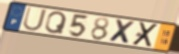5: (67, 13, 91, 38)
8: (89, 17, 113, 42)
Q: (44, 11, 69, 36)
U: (21, 6, 48, 33)
X: (107, 18, 137, 46), (130, 21, 161, 48)
